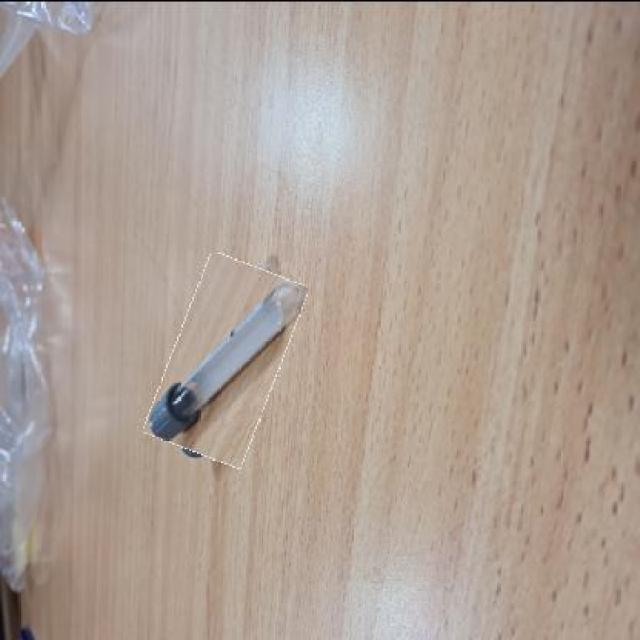Experimental-tube: (159, 256, 295, 462)
